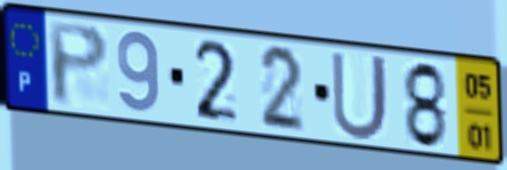2: (256, 43, 307, 136), (191, 37, 241, 127)
8: (399, 56, 449, 153)
9: (114, 28, 163, 118)
P: (45, 19, 112, 110)
U: (328, 48, 391, 144)
